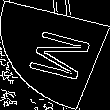M_E: (16, 25, 94, 85)
